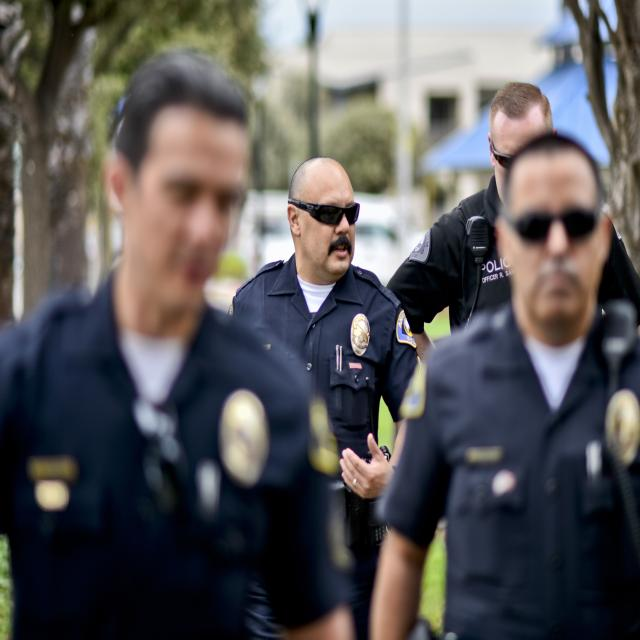police: (8, 49, 317, 640), (373, 125, 637, 640), (237, 141, 416, 569)
